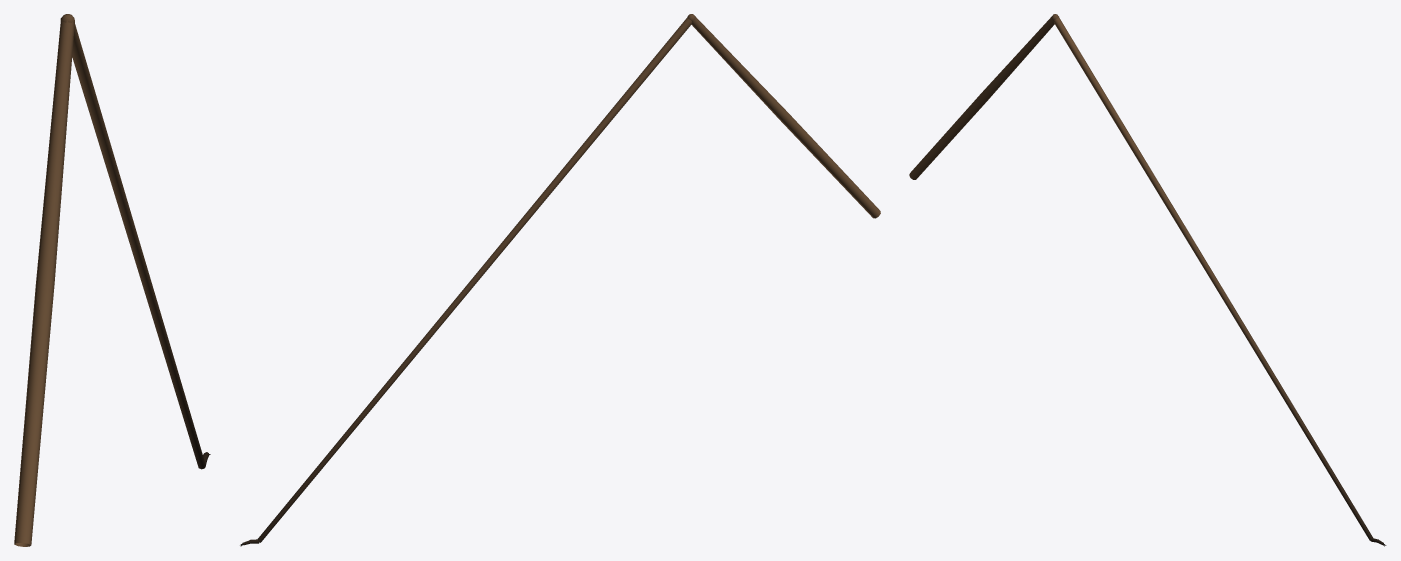
The model's file is Zatoumushi_Leg1.fbx.
3 views of the same model, side by side, from view 1: azimuth 30°, elevation 25°; view 2: azimuth 150°, elevation 25°; view 3: azimuth 270°, elevation 25° (orthographic). The views are drawn at different scales.
Visible parts, largest first — view 1: Zatoumushi_Leg1; view 2: Zatoumushi_Leg1; view 3: Zatoumushi_Leg1.
Part boxes in pixels (x1,y1,x2,y2): Zatoumushi_Leg1: (14,14,210,546); Zatoumushi_Leg1: (240,14,880,546); Zatoumushi_Leg1: (909,14,1386,546).
Size of the model in its own units: 1.09 by 1.28 by 1.33.
